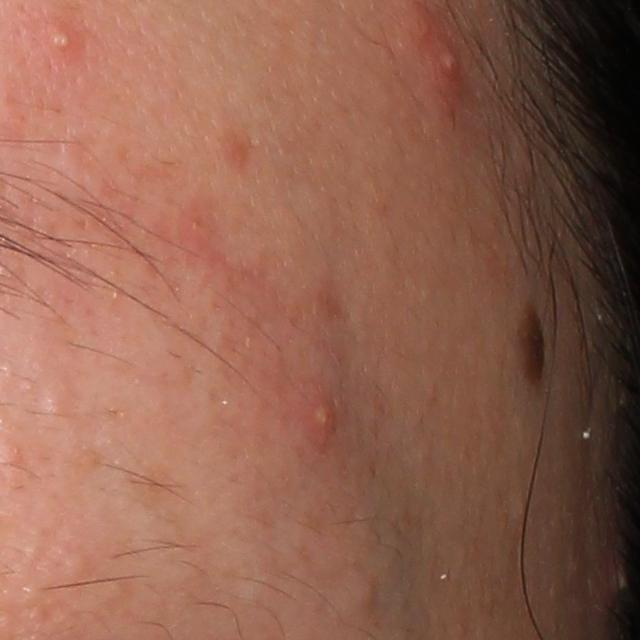melasma: (129, 460, 192, 519)
nevus: (520, 304, 548, 386)
pustule: (35, 17, 82, 59), (300, 393, 336, 440)
